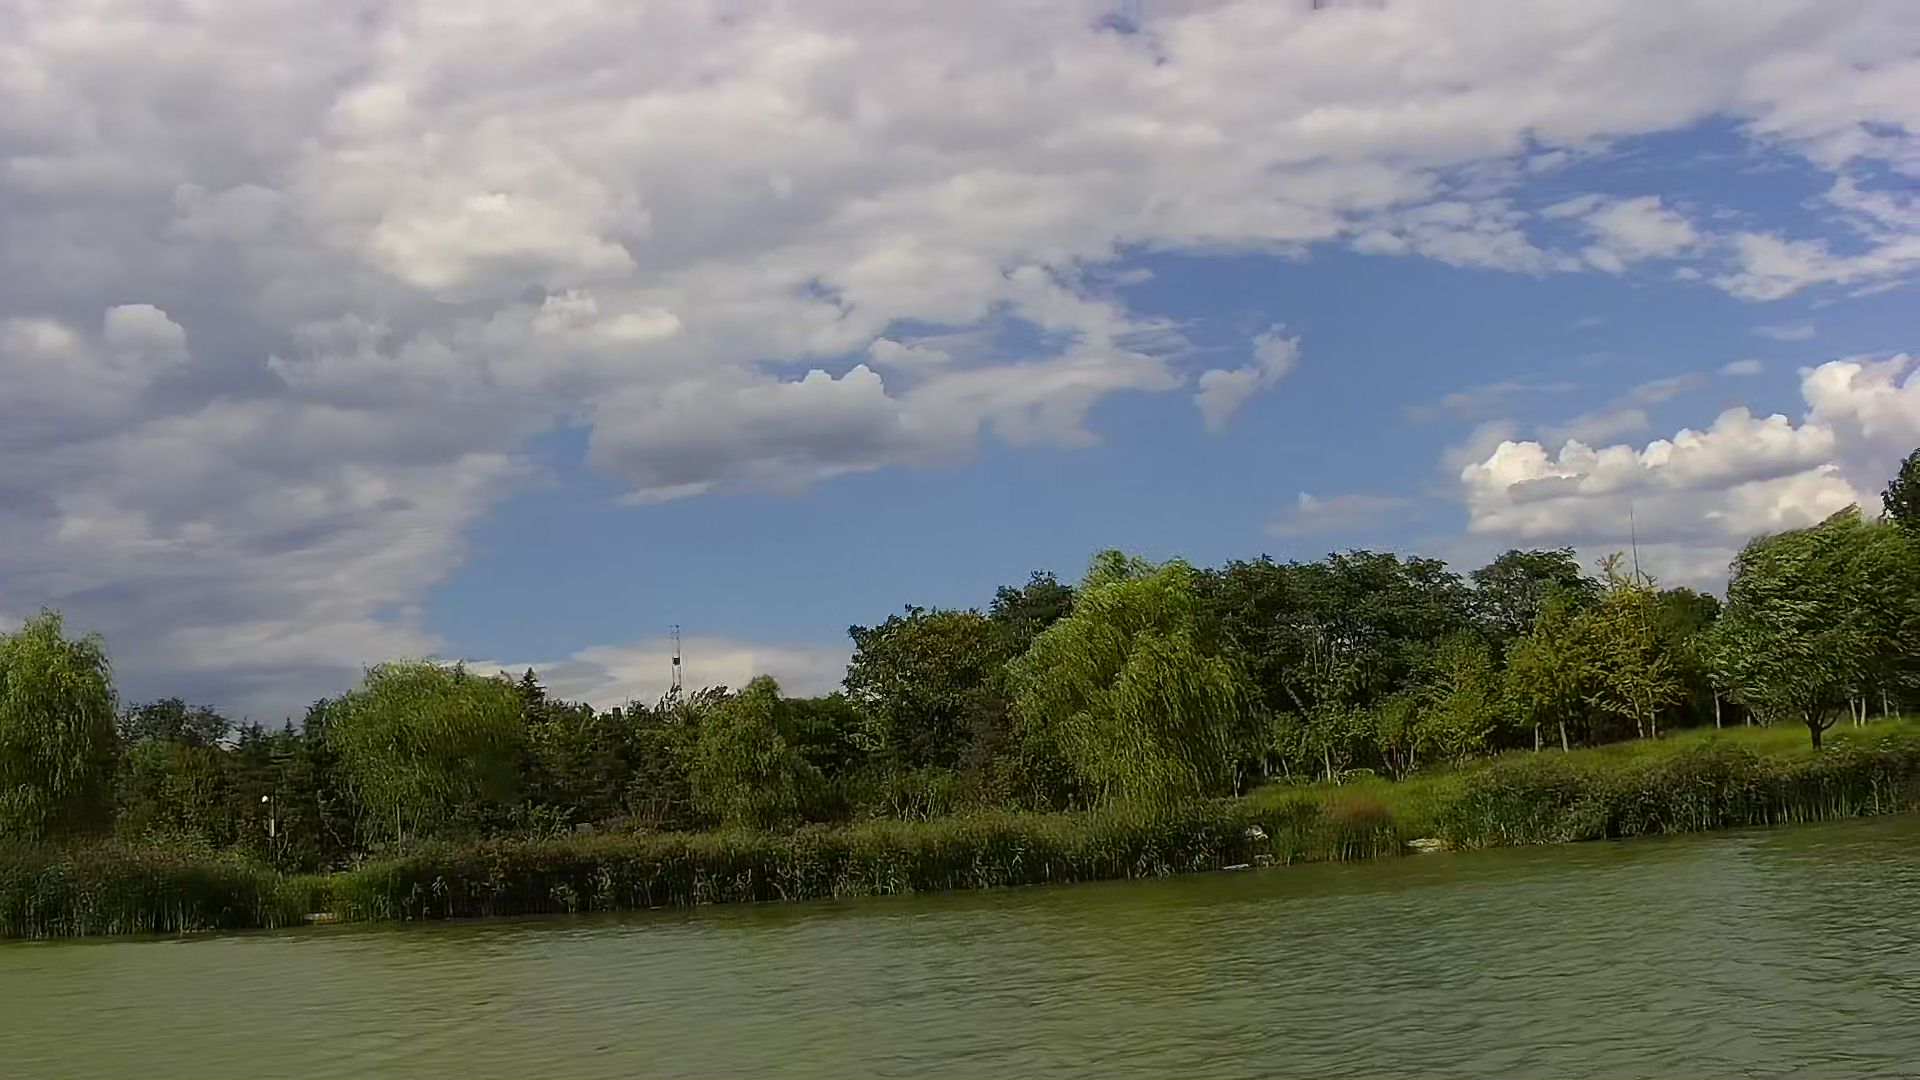rock: (1408, 837, 1447, 856)
